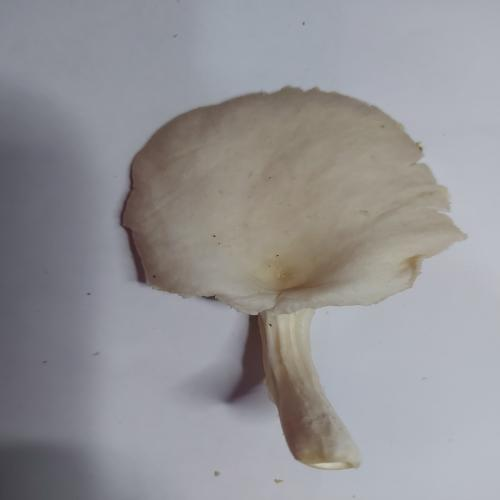Oyster Mushroom: (119, 85, 468, 471)
